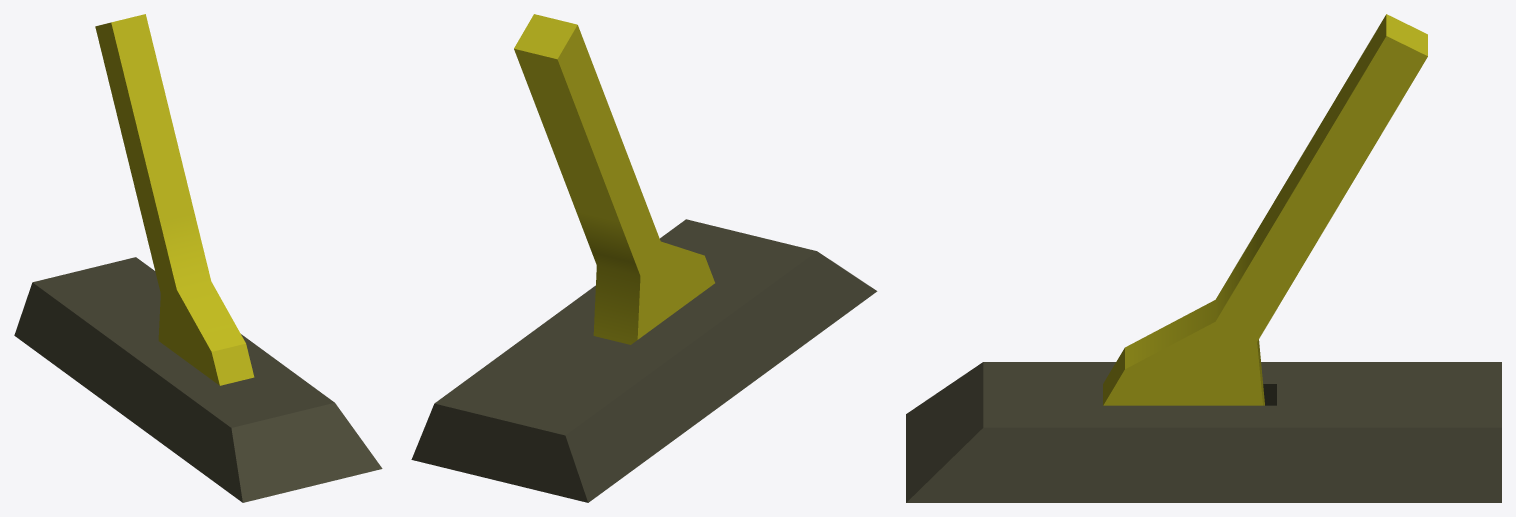
The model's file is LogKeeper_Lever.fbx.
The picture shows the model from 3 angles, left to right: view 1: azimuth 30°, elevation 25°; view 2: azimuth 150°, elevation 25°; view 3: azimuth 270°, elevation 25°; orthographic projection. The views are drawn at different scales.
Parts seen in each view (by area): view 1: Lever_Plattform, Lever; view 2: Lever_Plattform, Lever; view 3: Lever_Plattform, Lever.
Boxes of the visible parts, x1,y1,x2,y2 form: Lever_Plattform: (14, 257, 382, 502); Lever: (95, 14, 254, 385); Lever_Plattform: (411, 219, 877, 502); Lever: (514, 14, 714, 344); Lever_Plattform: (906, 362, 1501, 502); Lever: (1103, 14, 1427, 405).
Size of the model in its own units: 60 by 142 by 170.
